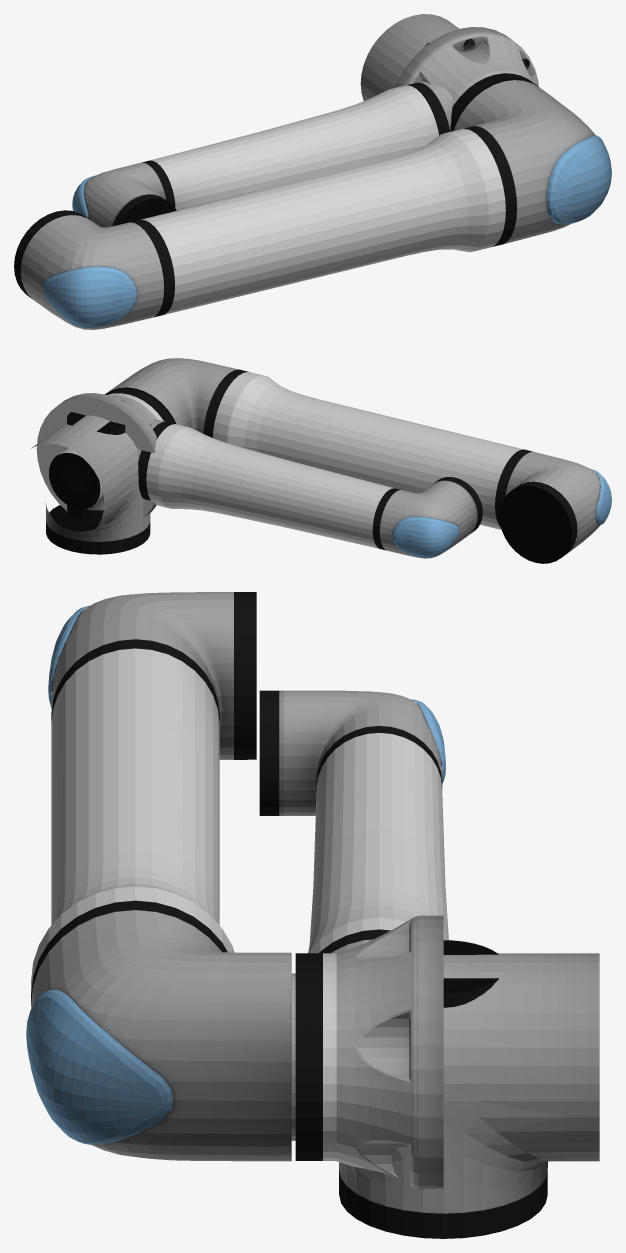
3 views of the same model, one above another, from view 1: azimuth 30°, elevation 25°; view 2: azimuth 150°, elevation 25°; view 3: azimuth 270°, elevation 25° (orthographic). The views are drawn at different scales.
Parts seen in each view (by area): view 1: upperarm, forearm, base, shoulder; view 2: upperarm, forearm, shoulder, base, wrist2, wrist1; view 3: upperarm, shoulder, forearm, base, wrist2.
Part boxes in pixels (x1=…): upperarm: x1=14, y1=80, x2=611, y2=329; forearm: x1=72, y1=81, x2=452, y2=227; base: x1=394, y1=27, x2=539, y2=131; shoulder: x1=360, y1=14, x2=459, y2=100; upperarm: x1=107, y1=358, x2=611, y2=563; forearm: x1=137, y1=419, x2=482, y2=558; shoulder: x1=31, y1=415, x2=150, y2=554; base: x1=36, y1=388, x2=174, y2=517; wrist2: x1=49, y1=412, x2=125, y2=509; wrist1: x1=65, y1=448, x2=104, y2=522; upperarm: x1=26, y1=592, x2=291, y2=1161; shoulder: x1=339, y1=953, x2=599, y2=1238; forearm: x1=259, y1=690, x2=448, y2=1140; base: x1=295, y1=915, x2=443, y2=1189; wrist2: x1=443, y1=940, x2=498, y2=1007.
Size of the model in its own units: 0.812 by 0.211 by 0.4119.
1 material, 1 textured.
